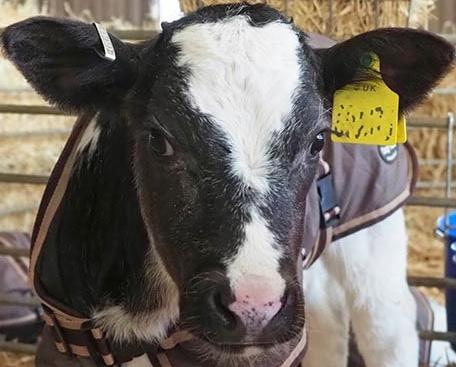muzzles: (182, 270, 306, 356)
